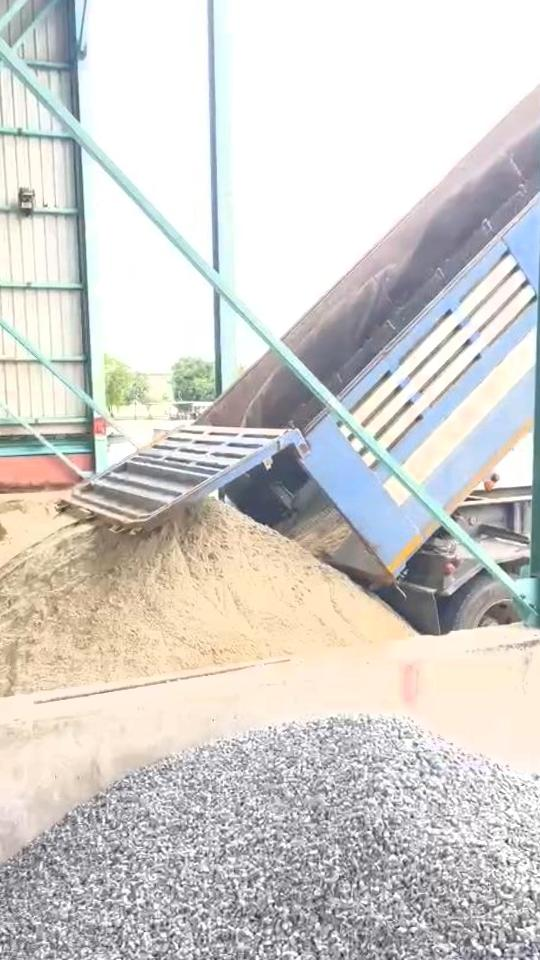gravel: (0, 717, 540, 960)
sand: (0, 500, 408, 703), (0, 504, 54, 552)
